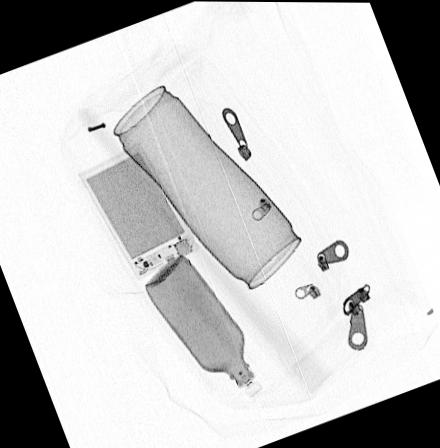Powerbank: (77, 141, 199, 280)
